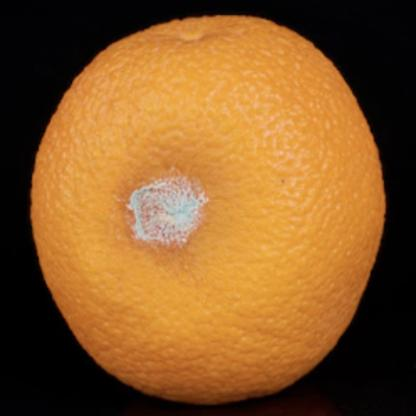rotten: (33, 13, 388, 405)
